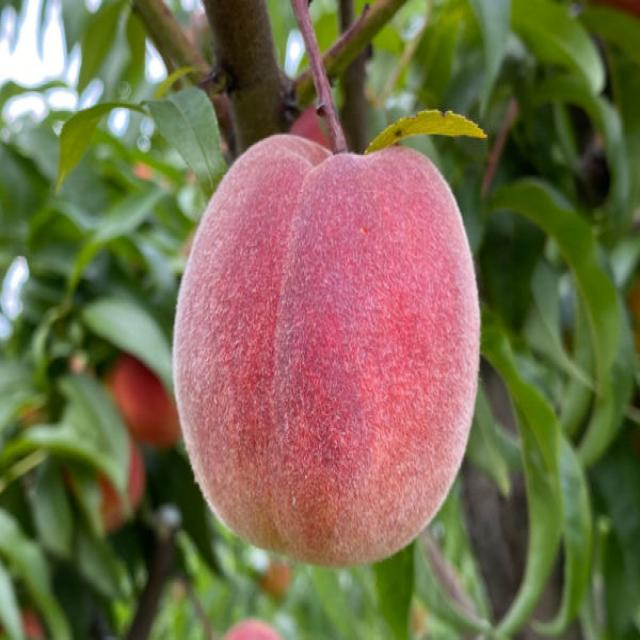peach: (0, 0, 640, 593)
